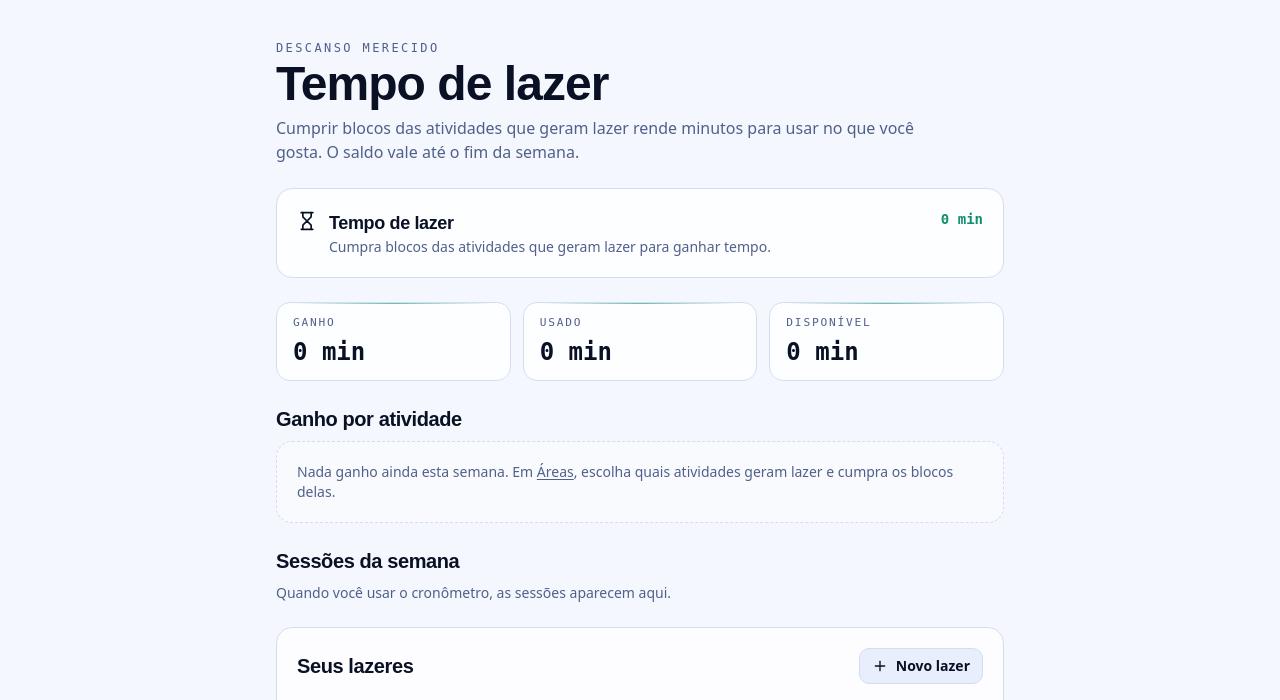
Test: LeisurePage (tempo de lazer) › nome repetido: mostra o erro do servidor e mantém o diálogo aberto
Step 1. Click the button "Novo lazer" → (921, 666), box [859,648,983,684]
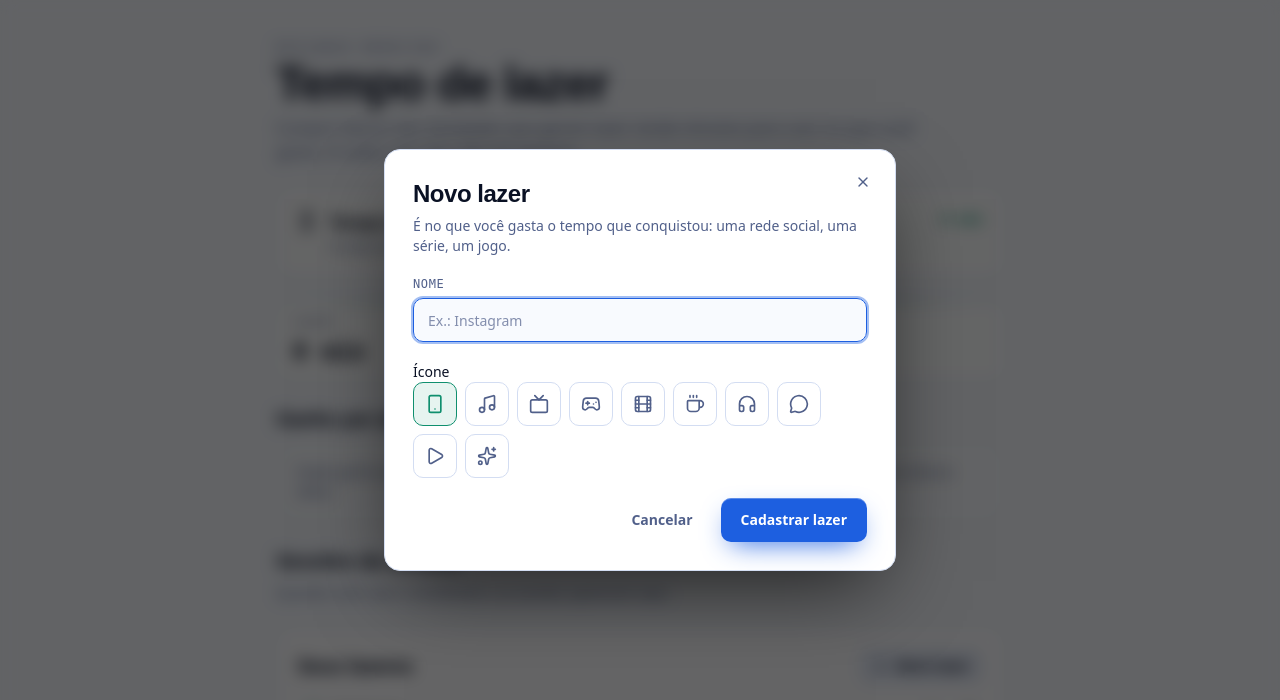
Step 2. Type "instagram" into the field labelled "Nome" → (640, 320), box [413,298,867,342]
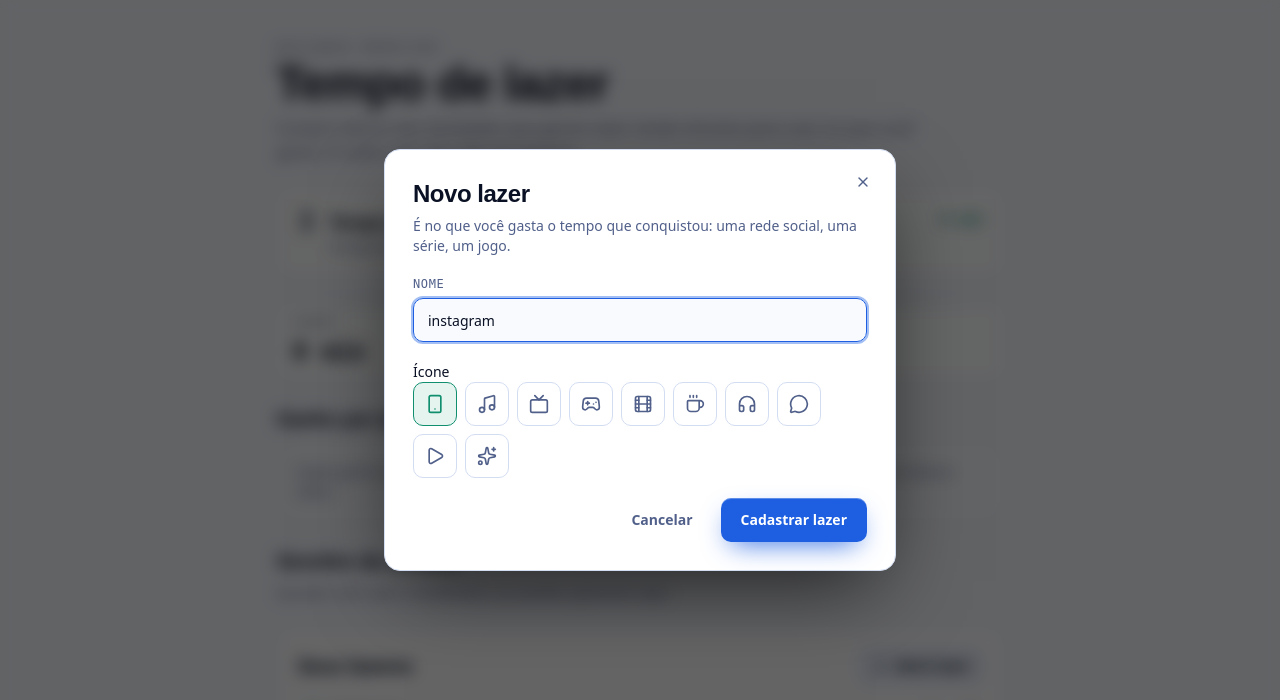
Step 3. Click the button "Cadastrar lazer" → (794, 520), box [720,498,867,542]
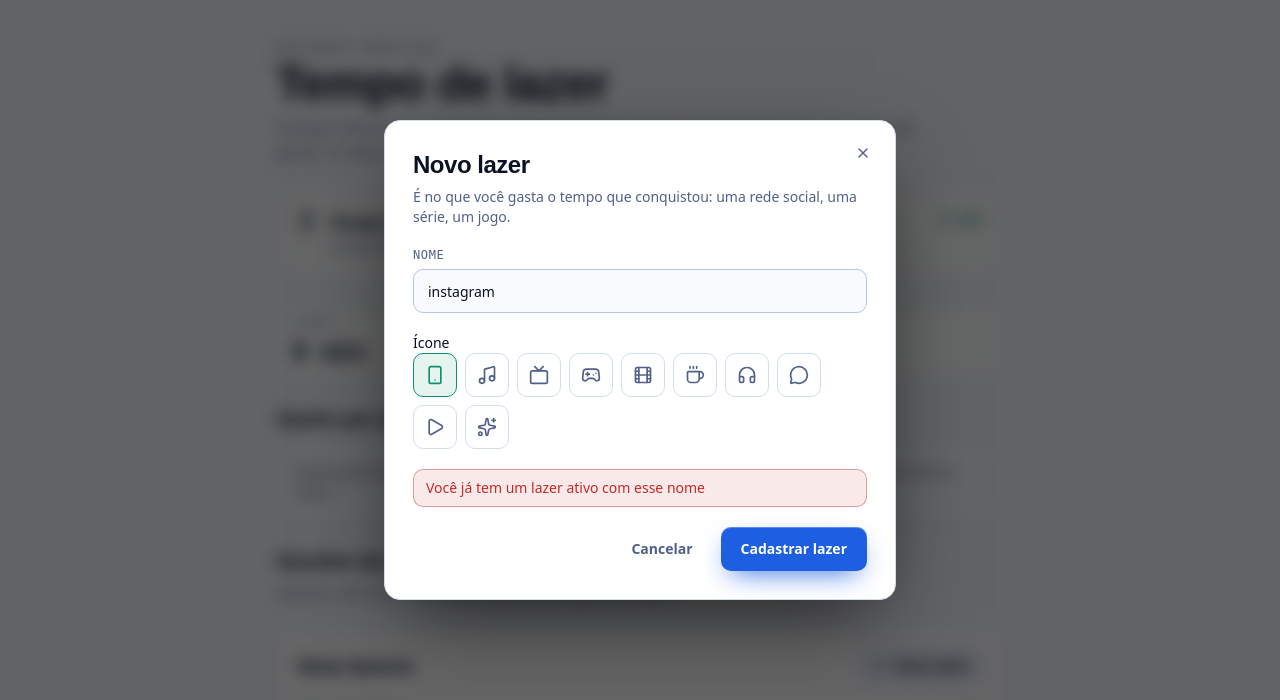
Result: the dialog is shown at [384,120,896,600]
Result: the message reads "Você já tem um lazer ativo com esse nome" at [426,478,705,497]
